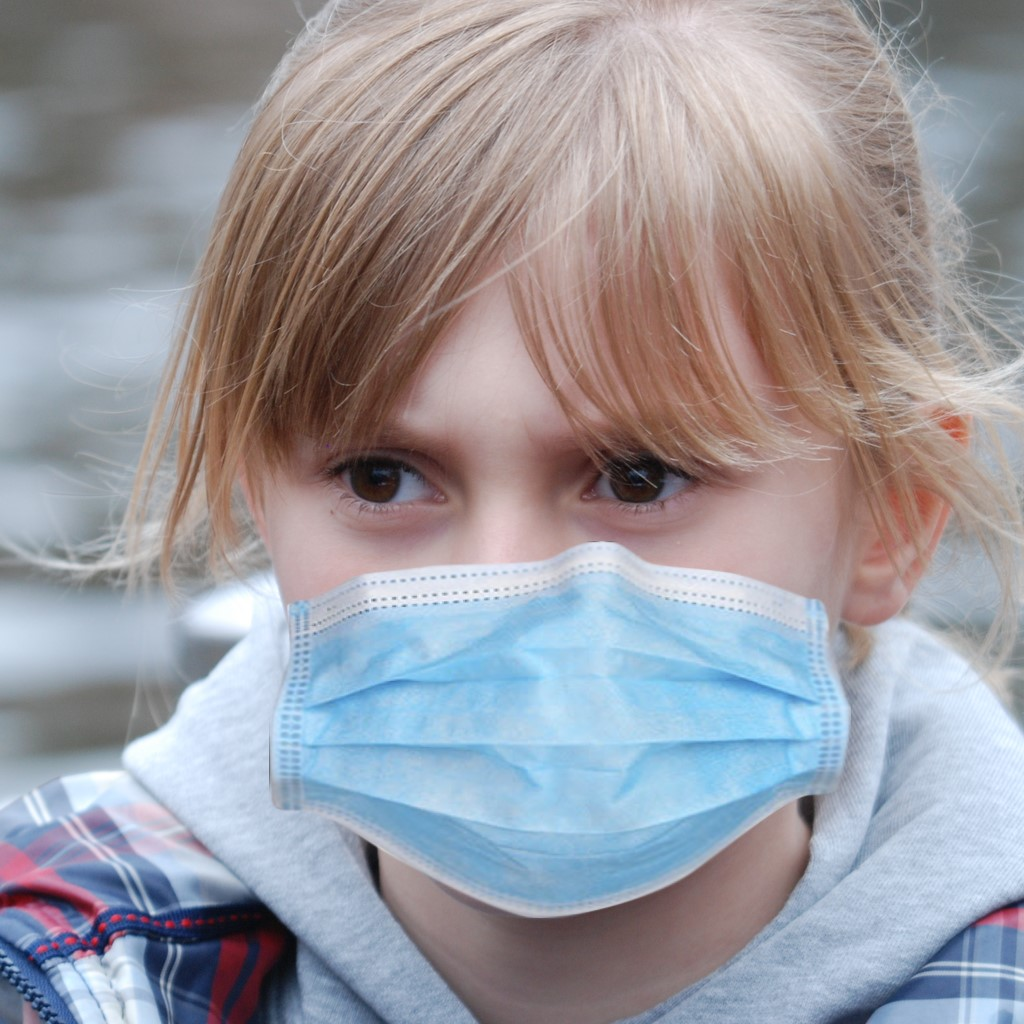con_mascara: (228, 84, 898, 928)
